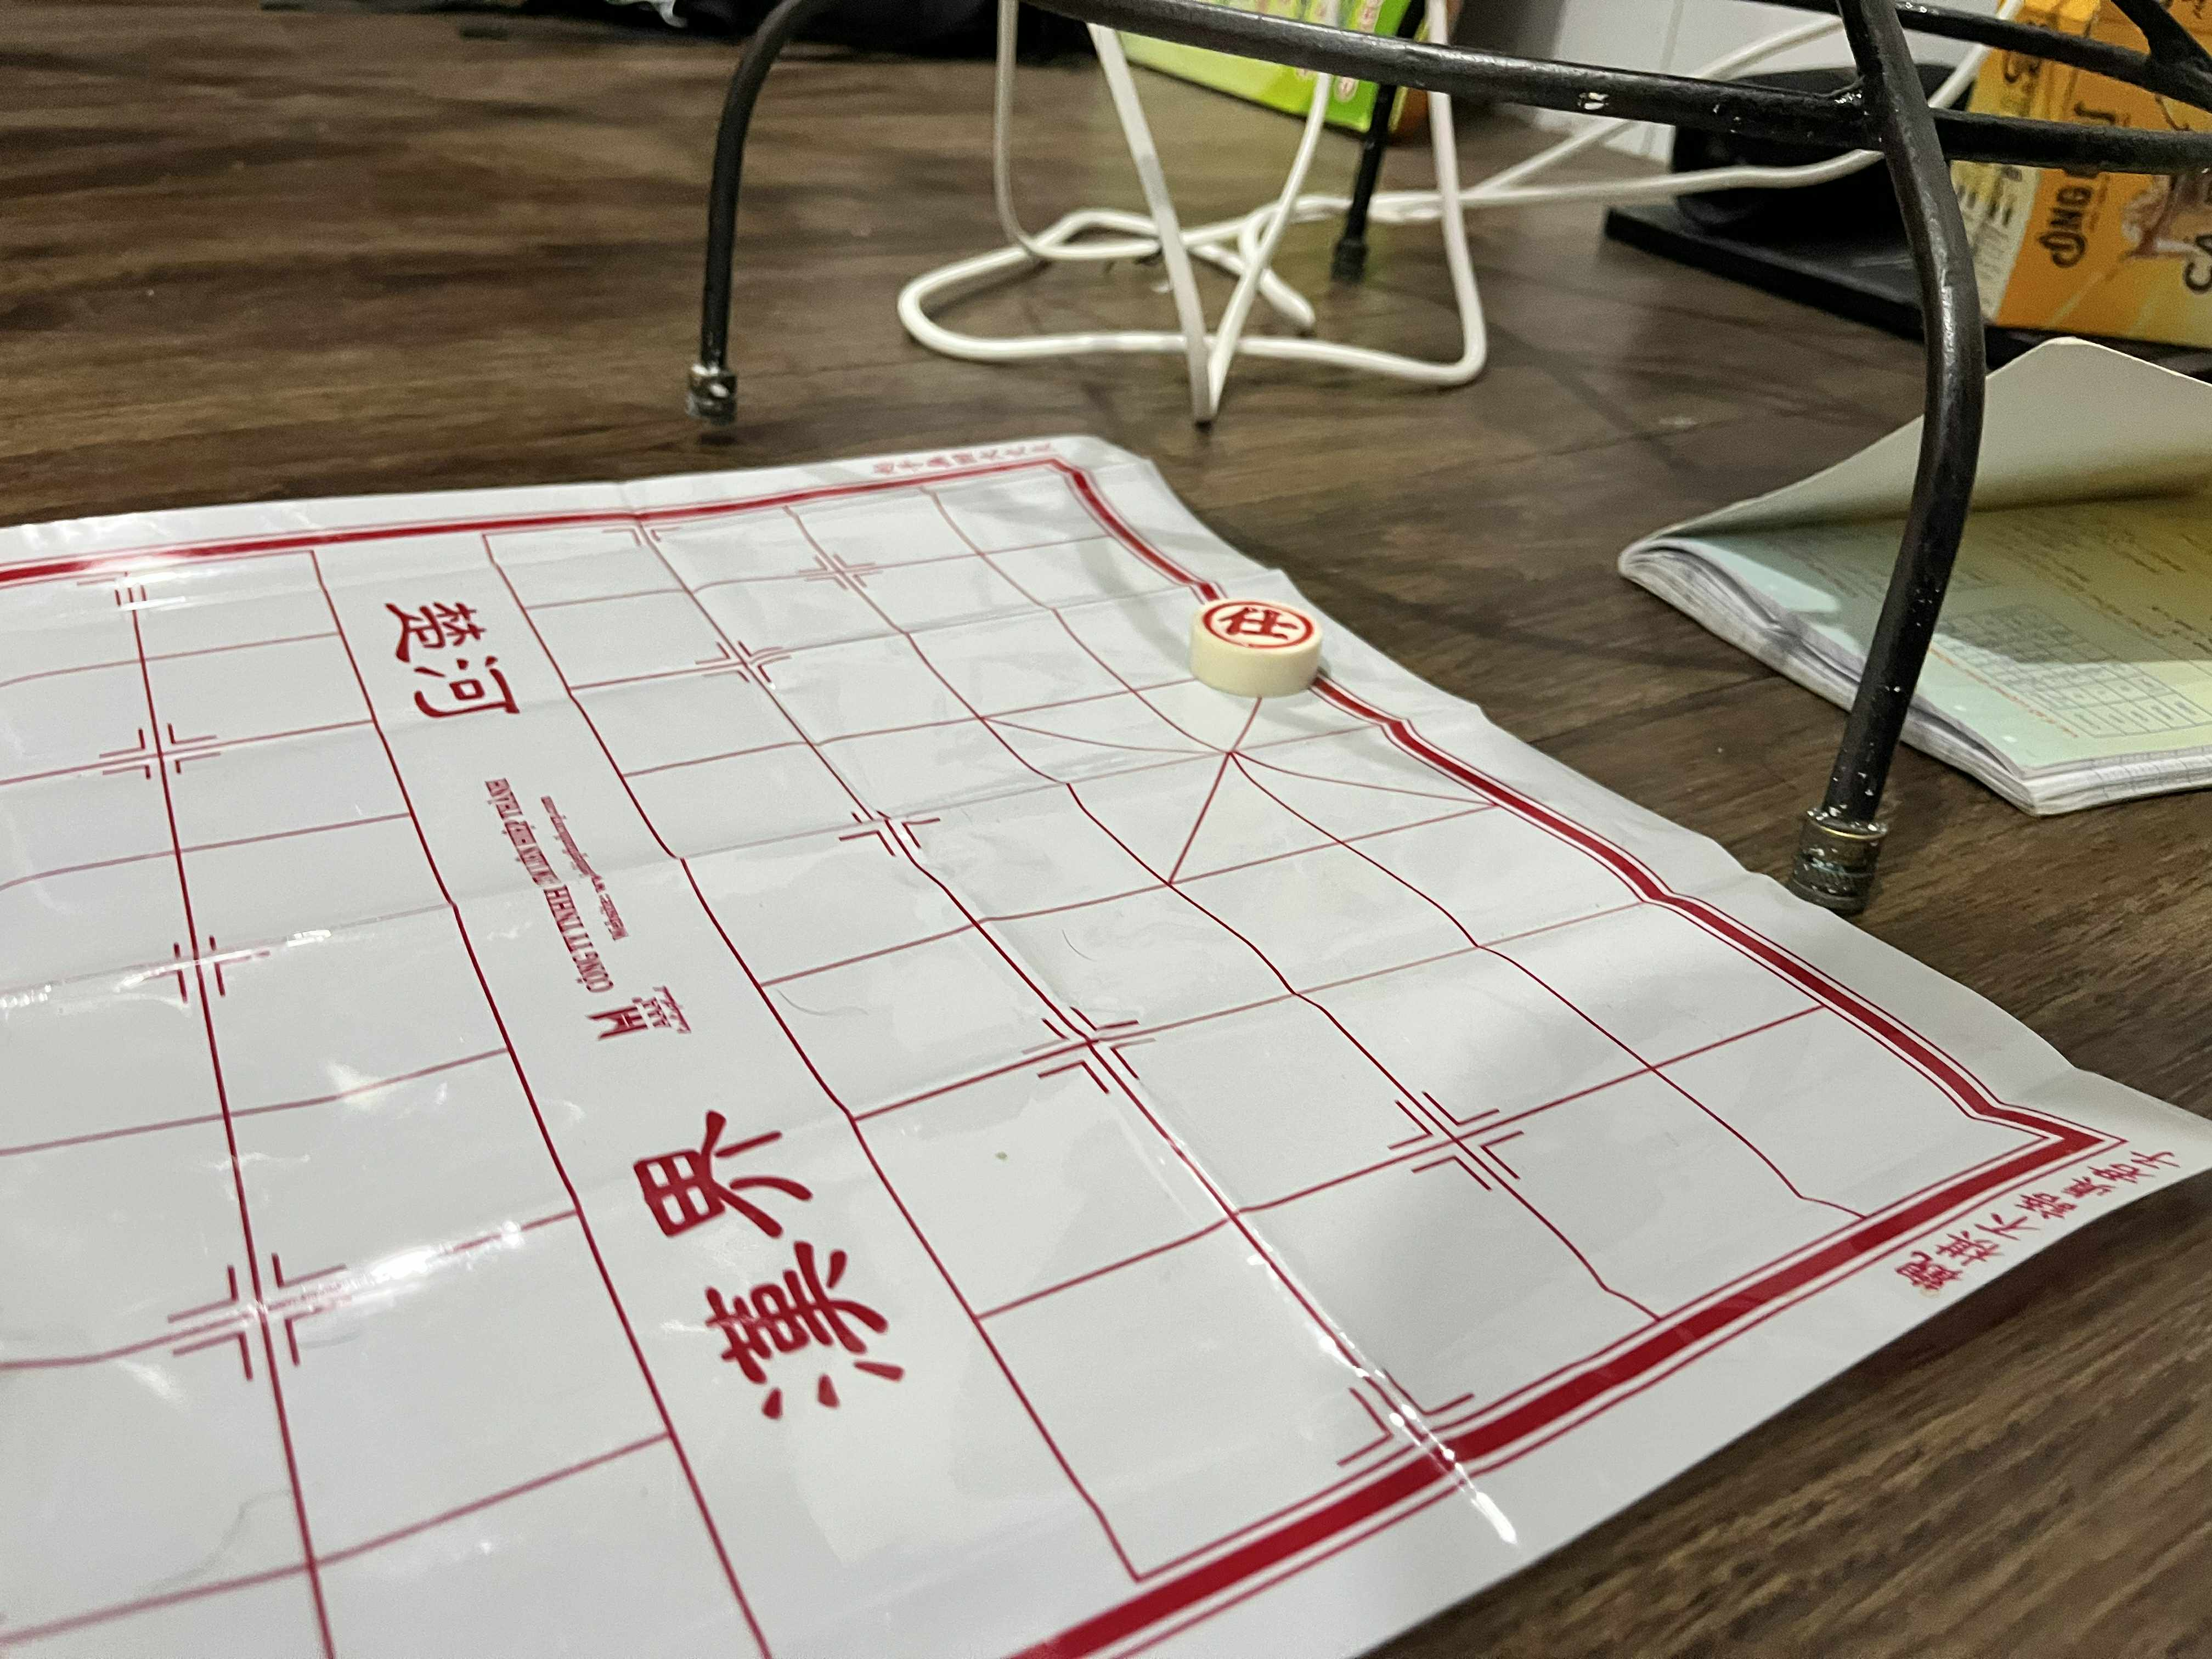red-advisor: (1193, 596, 1324, 657)
